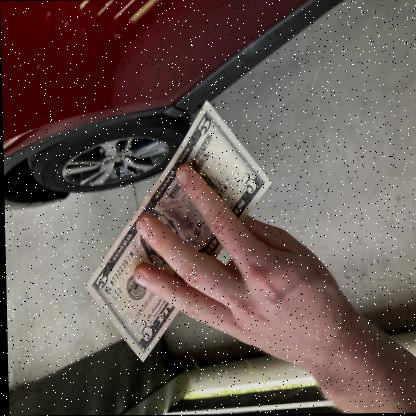five-front: (82, 100, 269, 362)
